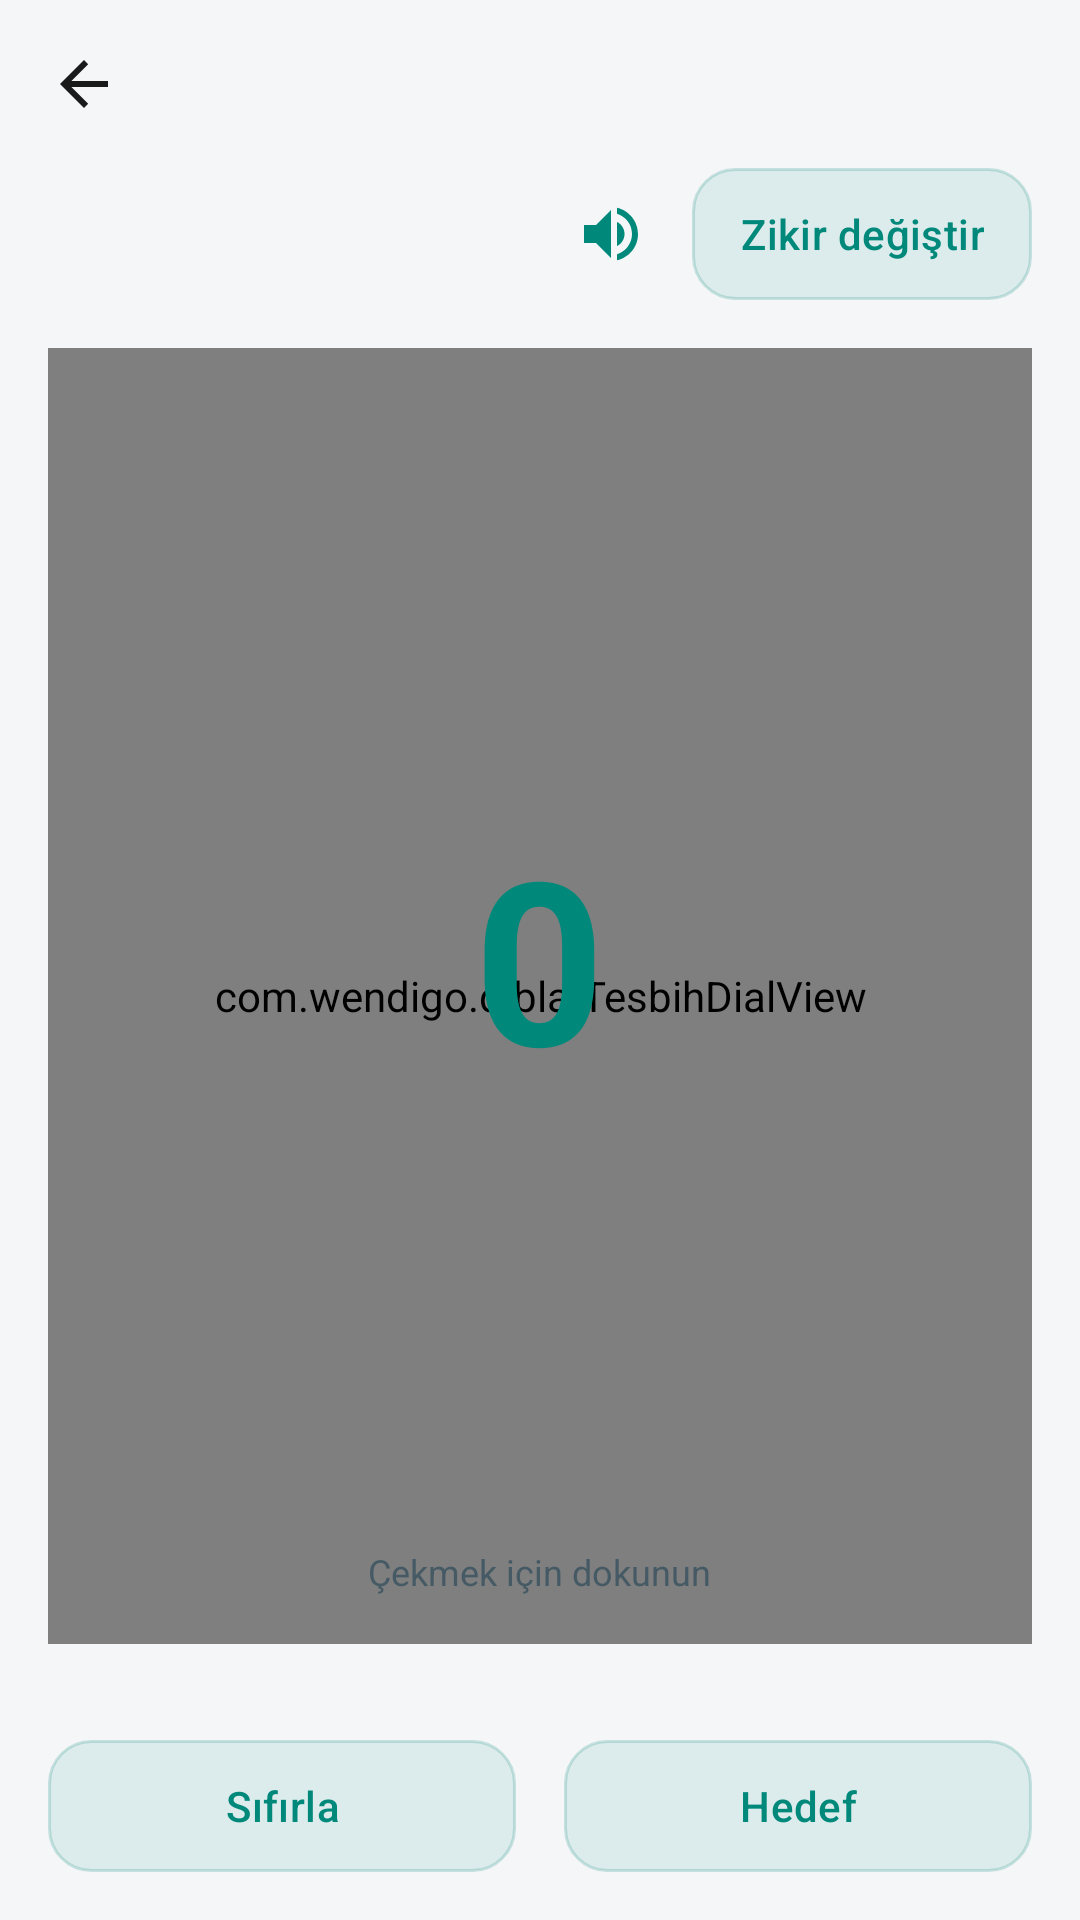

Screen size 1080 x 1920. Icon name, then its box in pixels as {"left": x1, "top": y1, "right": x2, "bottom": y2}:
Tane sesi: {"left": 584, "top": 207, "right": 638, "bottom": 261}
